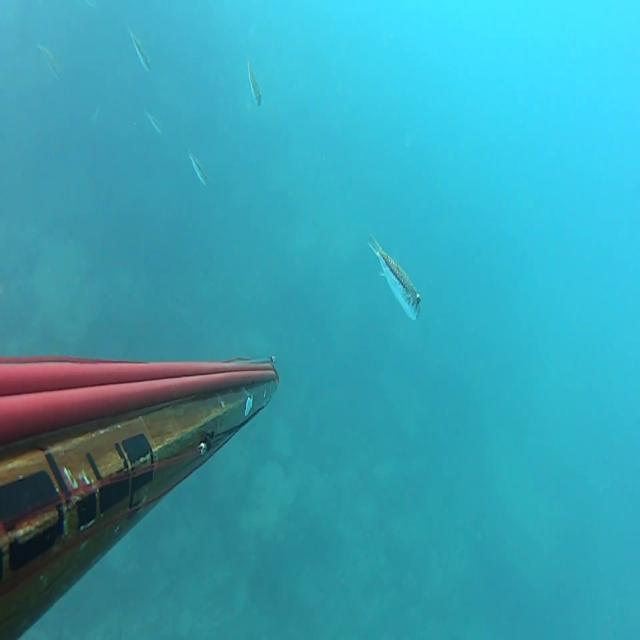Balon Baligi: (366, 232, 422, 323), (36, 43, 64, 81), (128, 28, 151, 73), (187, 148, 208, 185), (247, 58, 262, 108), (145, 110, 164, 136)
